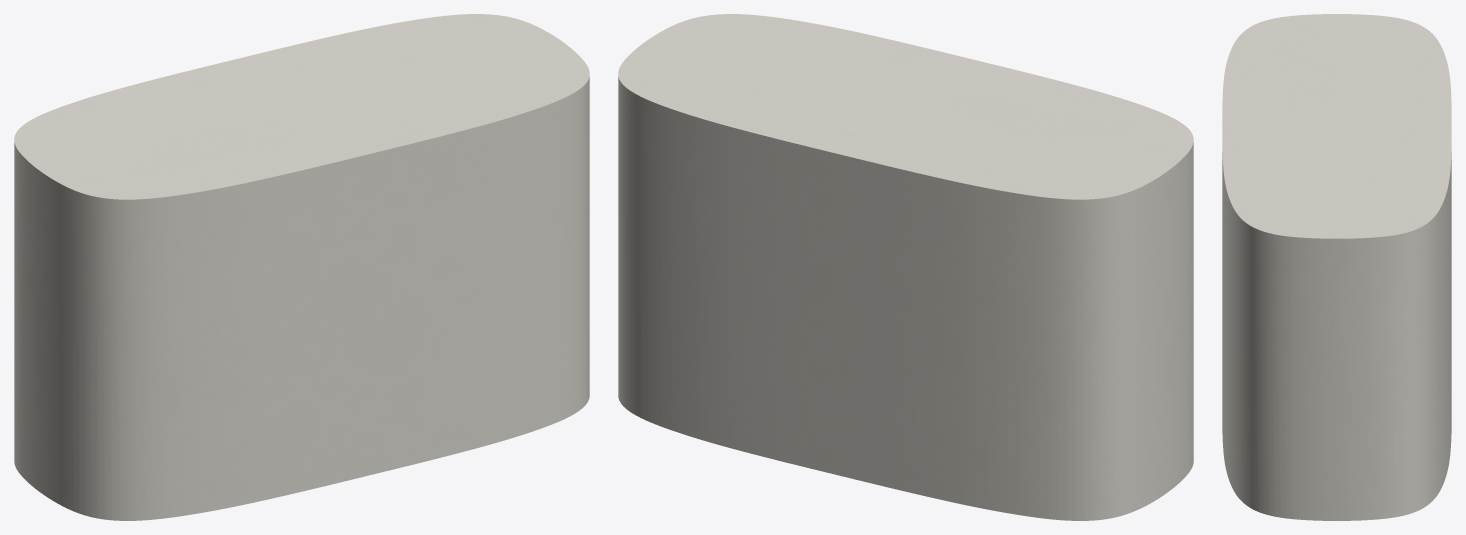
The model's file is pale_danish_standard_fixed.glb.
3 views of the same model, side by side, from view 1: azimuth 30°, elevation 25°; view 2: azimuth 150°, elevation 25°; view 3: azimuth 270°, elevation 25° (orthographic). The views are drawn at different scales.
Parts seen in each view (by area): view 1: fixed; view 2: fixed; view 3: fixed.
Boxes of the visible parts, <box> form: fixed: <box>14,14,589,520</box>; fixed: <box>618,14,1193,520</box>; fixed: <box>1222,14,1451,520</box>.
Bounding box in the file's own units: 4.17 × 2.44 × 1.8.
1 material, 1 textured.
